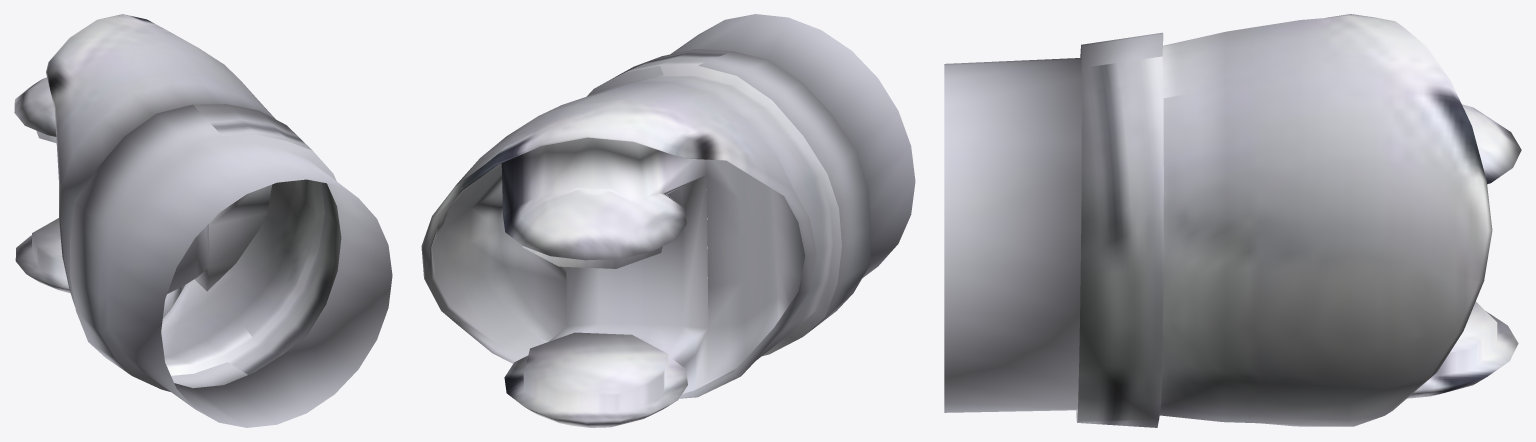
Rendered from coude.obj.
3 views of the same model, side by side, from view 1: azimuth 30°, elevation 25°; view 2: azimuth 150°, elevation 25°; view 3: azimuth 270°, elevation 25° (orthographic). The views are drawn at different scales.
Visible parts, largest first — view 1: Coude_Chest.013; view 2: Coude_Chest.013; view 3: Coude_Chest.013.
Part boxes in pixels (x1,y1,x2,y2): Coude_Chest.013: (14, 14, 392, 427); Coude_Chest.013: (421, 14, 915, 427); Coude_Chest.013: (944, 14, 1521, 427).
Size of the model in its own units: 0.5019 by 0.5127 by 0.7062.
